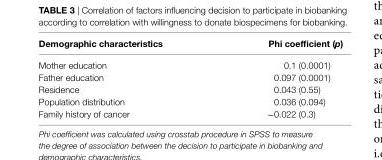table: (37, 37, 342, 120)
table column: (37, 37, 214, 120), (214, 37, 342, 120)
table column header: (37, 37, 342, 53)
table row: (37, 53, 342, 70), (37, 37, 342, 53), (37, 106, 342, 120), (37, 70, 342, 82), (37, 82, 342, 94), (37, 94, 342, 106)
